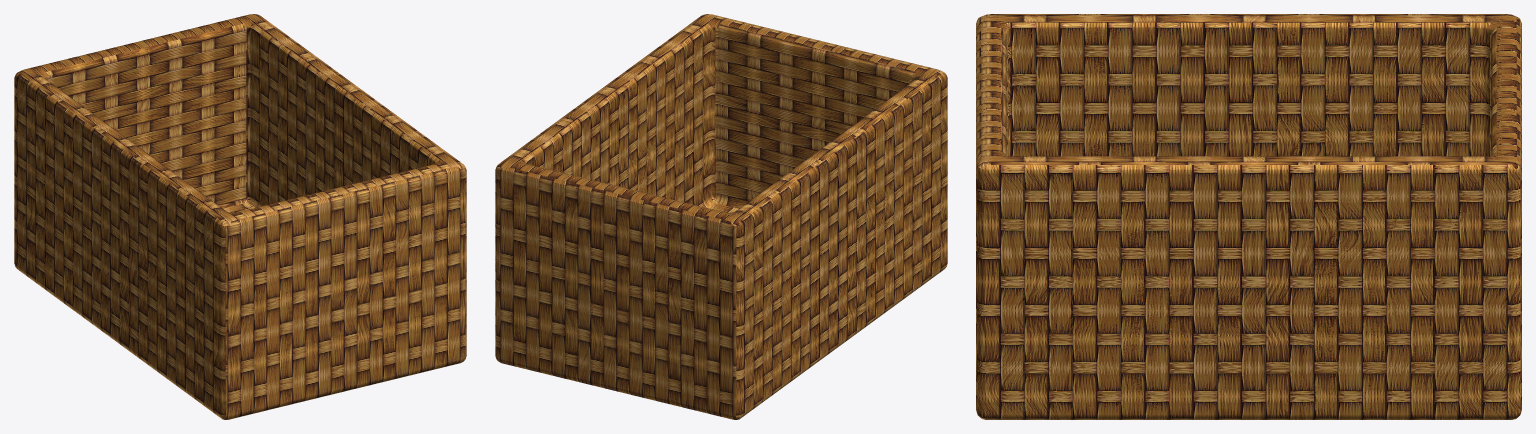
Rendered from Basket.fbx.
3 views of the same model, side by side, from view 1: azimuth 30°, elevation 25°; view 2: azimuth 150°, elevation 25°; view 3: azimuth 270°, elevation 25° (orthographic). The views are drawn at different scales.
Visible parts, largest first — view 1: Basket1; view 2: Basket1; view 3: Basket1.
Boxes of the visible parts, x1,y1,x2,y2 form: Basket1: [14, 14, 466, 419]; Basket1: [495, 14, 947, 419]; Basket1: [976, 14, 1521, 419].
Bounding box in the file's own units: 10.66 × 8.24 × 15.84.
1 material, 1 textured.
